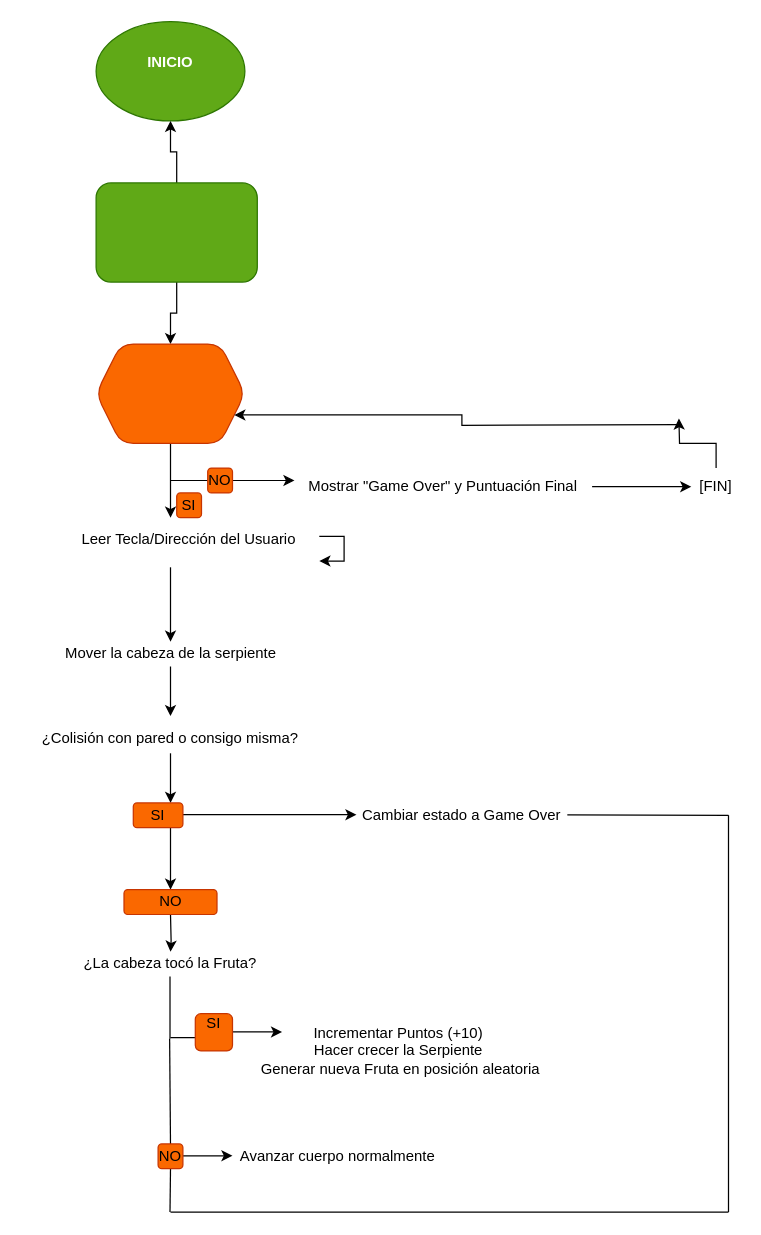
The diagram is 761 pixels wide and 1235 high, and some of its shapes have lost their labels. The shapes that lost their labels are listed below. From the top down, each one's box as (x1, y1, x2, y2) in pixels, then its label:
(95, 182, 257, 282): Inicializar variables (Serpiente, Fruta, Puntos = 0, Estado = Jugando) │
(95, 343, 245, 443): ¿El juego sigue activo? (Bucle principal)
